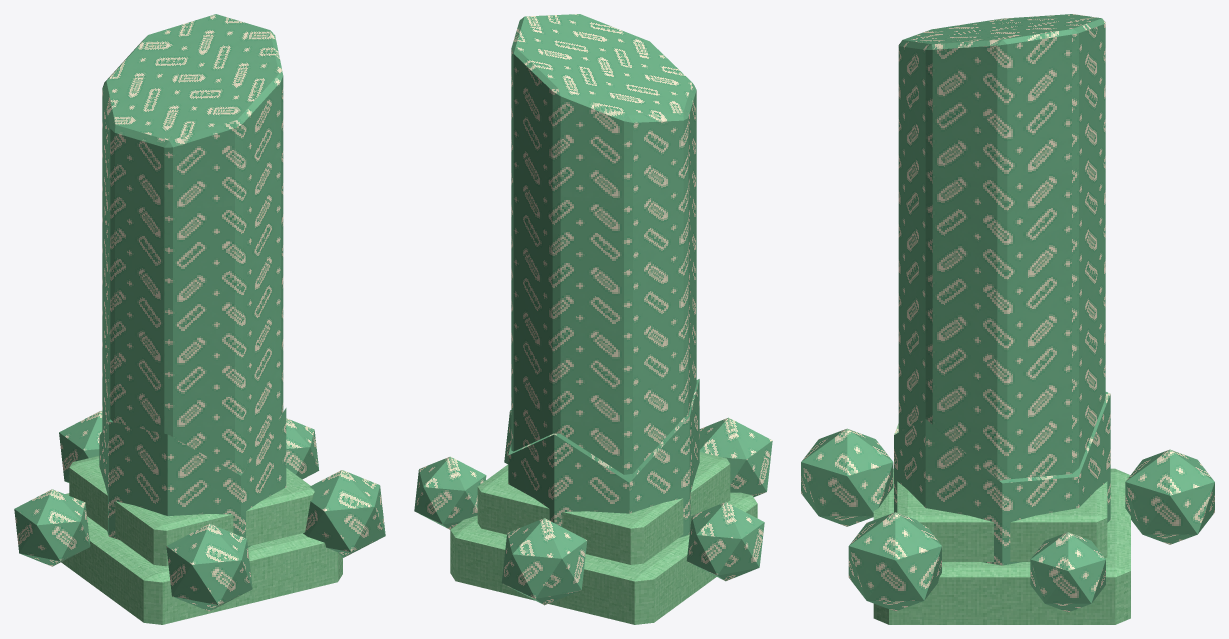
Rendered from sanct_pillar.glb.
3 views of the same model, side by side, from view 1: azimuth 30°, elevation 25°; view 2: azimuth 150°, elevation 25°; view 3: azimuth 270°, elevation 25° (orthographic). The views are drawn at different scales.
Parts seen in each view (by area): view 1: Column, Stub, Base; view 2: Column, Stub, Base; view 3: Column, Stub, Base.
Part boxes in pixels (left/top/right/bottom): Column: left=69, top=14, right=314, bottom=566; Stub: left=14, top=408, right=385, bottom=611; Base: left=61, top=493, right=342, bottom=624; Column: left=477, top=14, right=730, bottom=564; Stub: left=414, top=379, right=772, bottom=605; Base: left=450, top=492, right=757, bottom=624; Column: left=897, top=14, right=1107, bottom=561; Stub: left=801, top=392, right=1214, bottom=612; Base: left=873, top=468, right=1130, bottom=624.
Bounding box in the file's own units: 3 × 4.7 × 3.06.
Materials: 2 (2 with a texture image).
